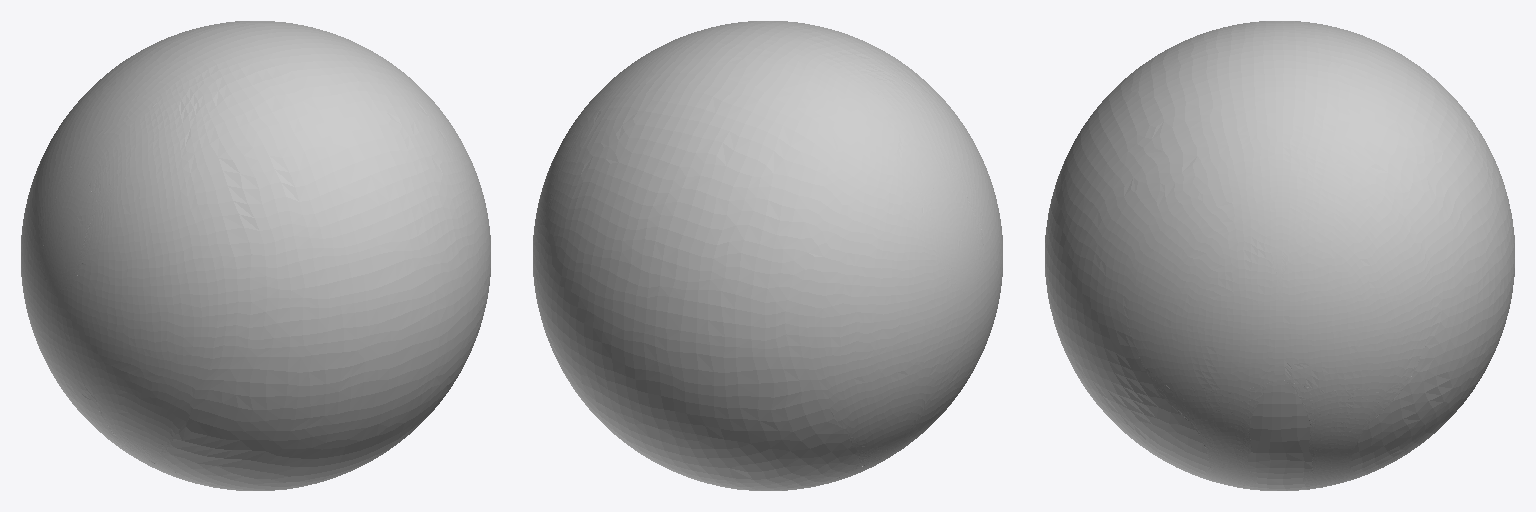
File: Rhino_a.OBJ
3 views of the same model, side by side, from view 1: azimuth 30°, elevation 25°; view 2: azimuth 150°, elevation 25°; view 3: azimuth 270°, elevation 25° (orthographic).
Parts seen in each view (by area): view 1: Group8519; view 2: Group8519; view 3: Group8519.
Boxes of the visible parts, box(x1,y1,x2,y2) form: Group8519: box(21, 21, 490, 490); Group8519: box(533, 21, 1002, 490); Group8519: box(1045, 21, 1514, 490).
Bounding box in the file's own units: 0.4924 × 0.4923 × 0.4922.